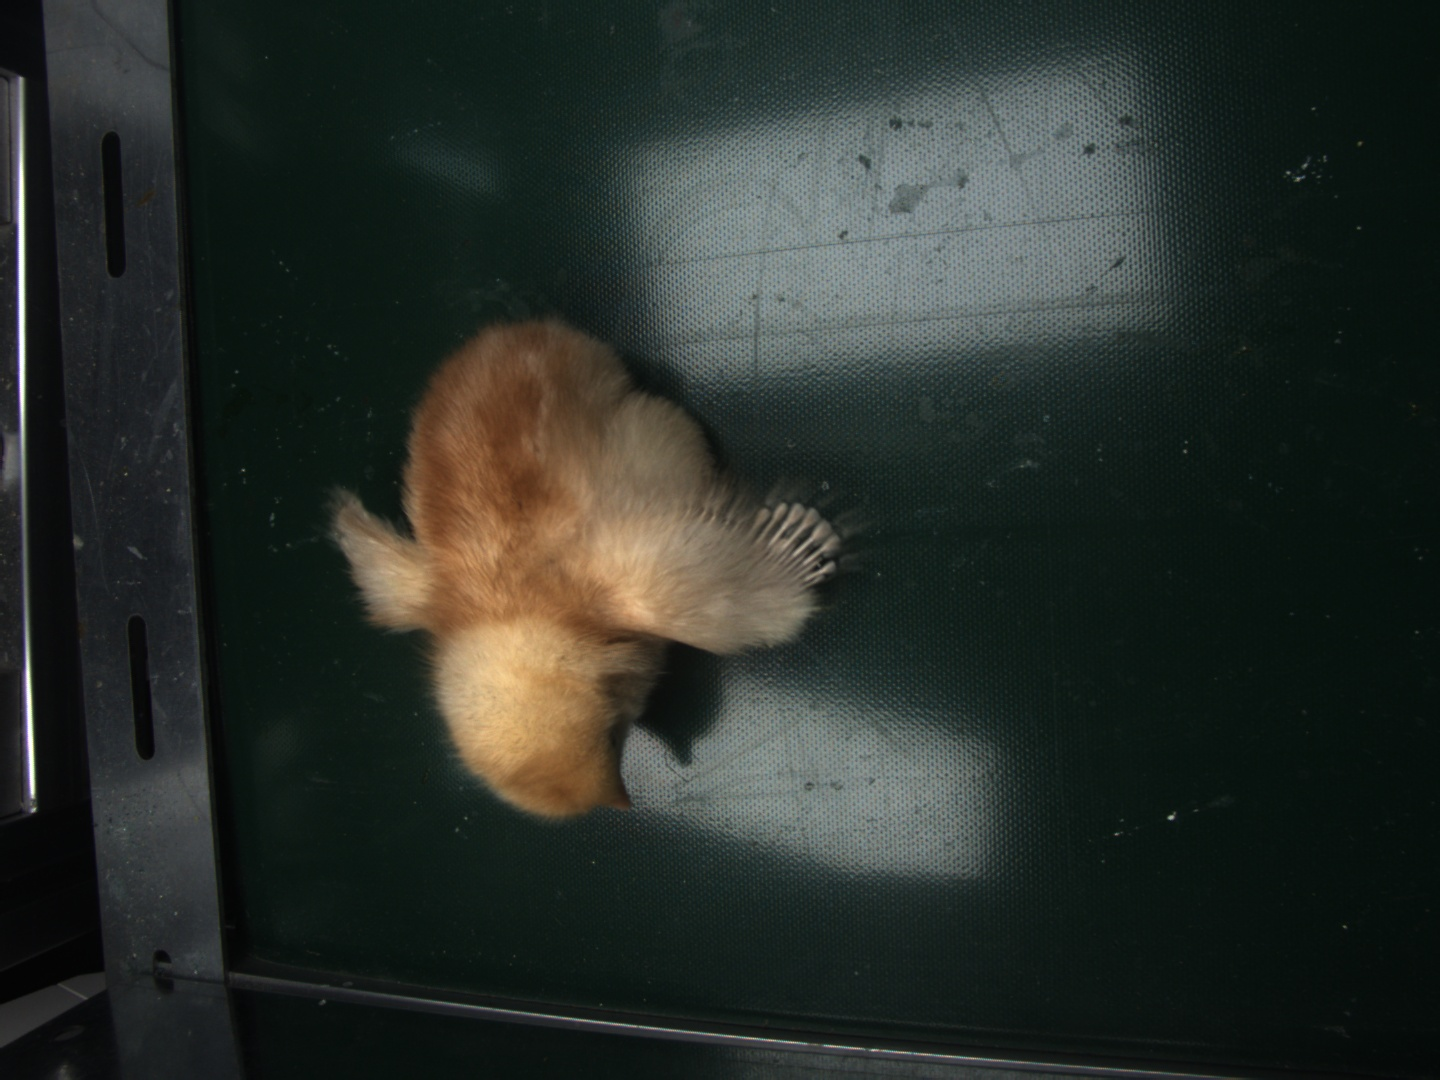female: (749, 501, 838, 587)
